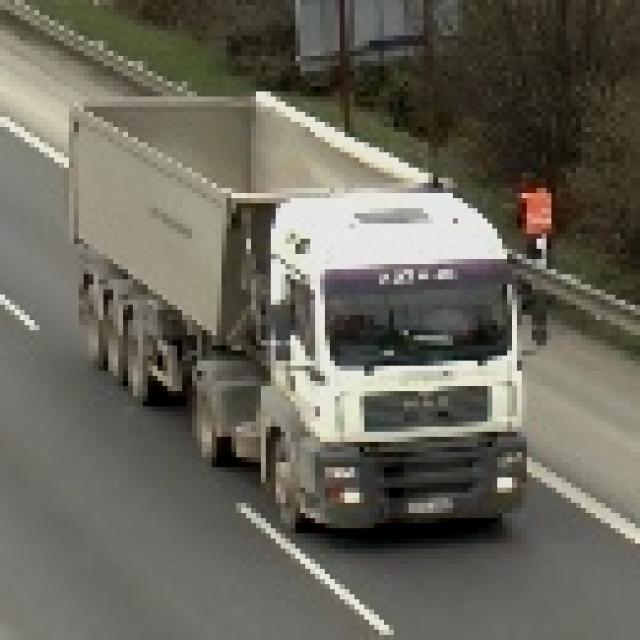TRUCK: (60, 95, 536, 539)
